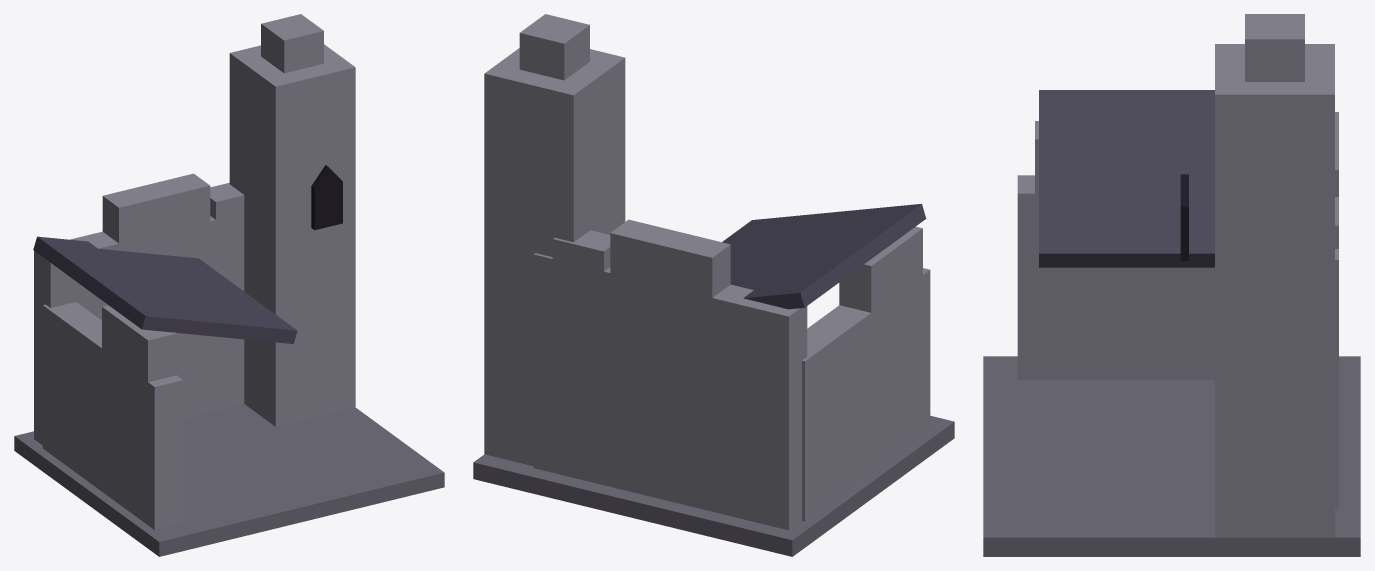
File: env_r4_ruined_chapel.glb
3 renders of one model, left to right at view 1: azimuth 30°, elevation 25°; view 2: azimuth 150°, elevation 25°; view 3: azimuth 270°, elevation 25°, orthographic. The views are drawn at different scales.
Parts seen in each view (by area): view 1: env_r4_ruined_chapel; view 2: env_r4_ruined_chapel; view 3: env_r4_ruined_chapel.
Boxes of the visible parts, x1=… form: env_r4_ruined_chapel: x1=14, y1=14, x2=444, y2=556; env_r4_ruined_chapel: x1=473, y1=14, x2=954, y2=556; env_r4_ruined_chapel: x1=983, y1=14, x2=1360, y2=556.
Size of the model in its own units: 5 by 6.5 by 4.4.
Materials: 1 (1 with a texture image).
